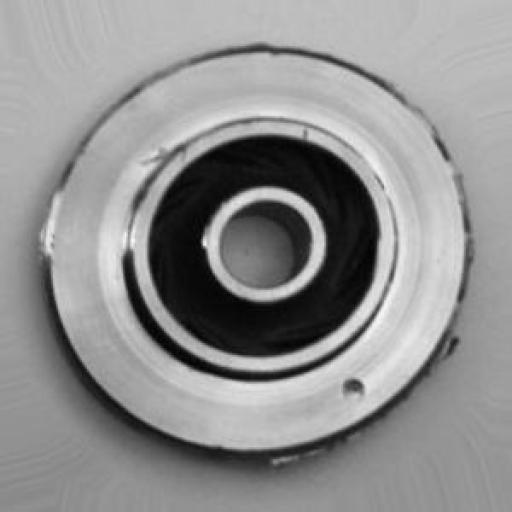defect: (33, 48, 491, 484)
